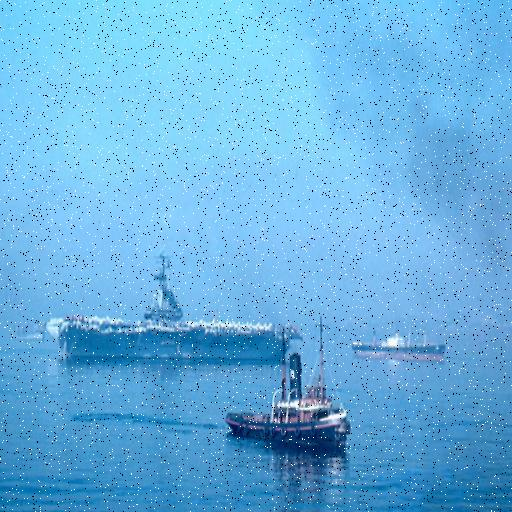Portanaves: (32, 242, 304, 382)
